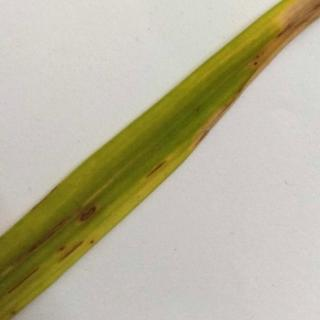Blast: (62, 189, 105, 235)
